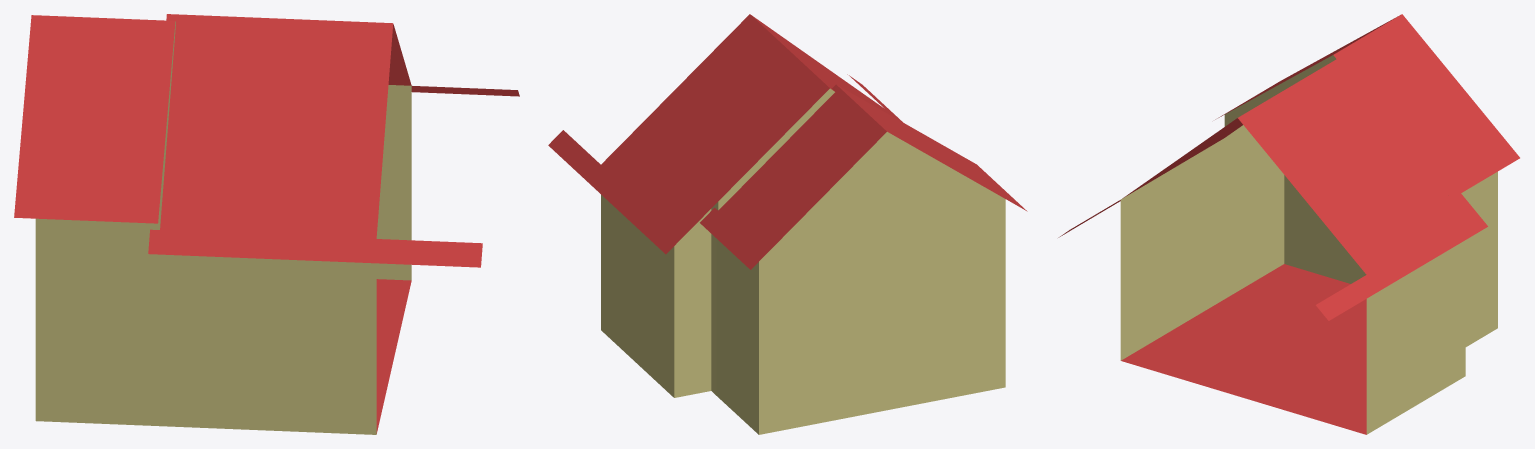
3 renders of one model, left to right at view 1: azimuth 30°, elevation 25°; view 2: azimuth 150°, elevation 25°; view 3: azimuth 270°, elevation 25°, orthographic. The views are drawn at different scales.
Size of the model in its own units: 23.48 by 21.43 by 14.18.
